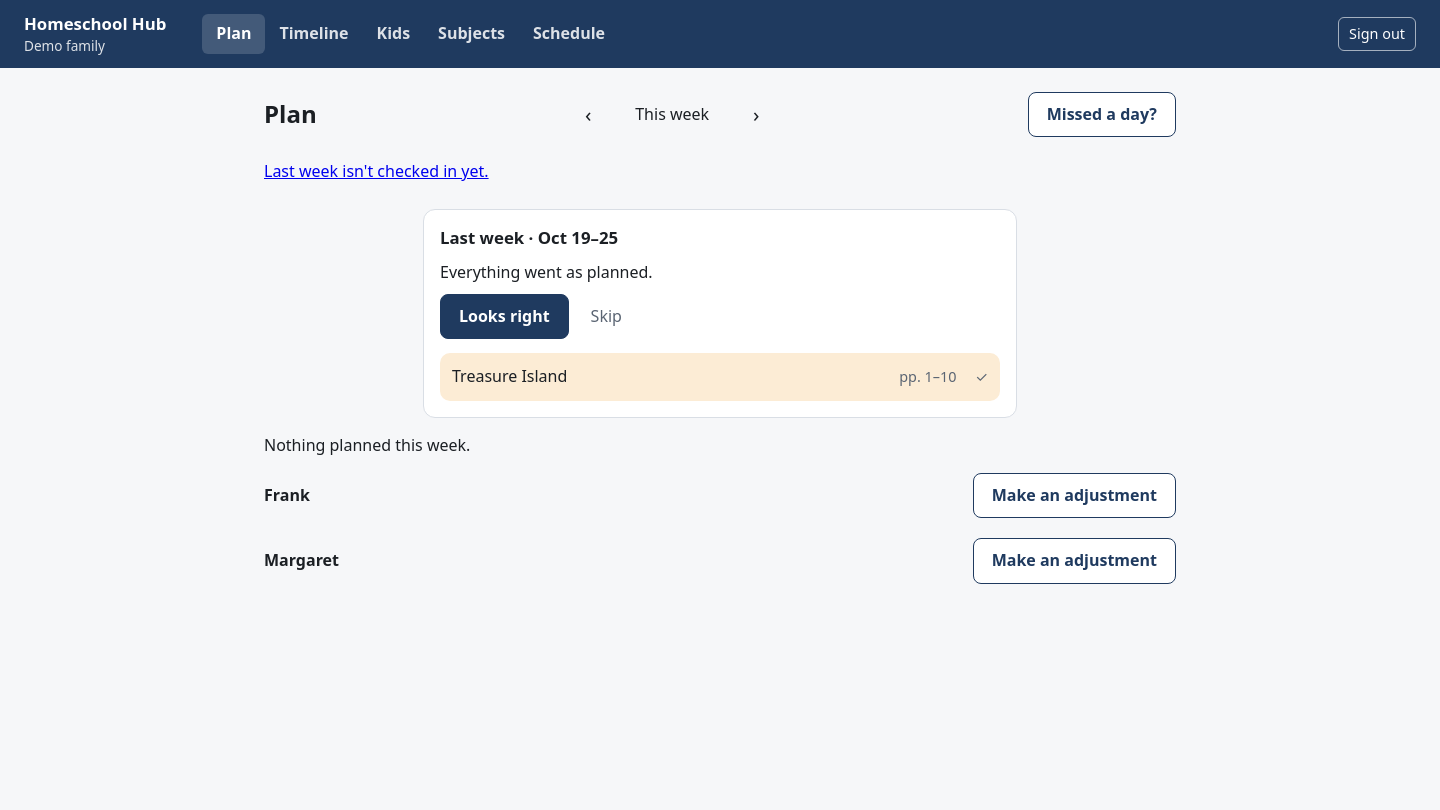
it: Weekly briefing on This Week (S4-09) › the nudge goes once last week is confirmed from the card
Expected: the link "Last week isn't checked in yet." is shown, [264,160,489,182]
Step 1. Click the button "Looks right" → (504,316), box [440,294,569,339]
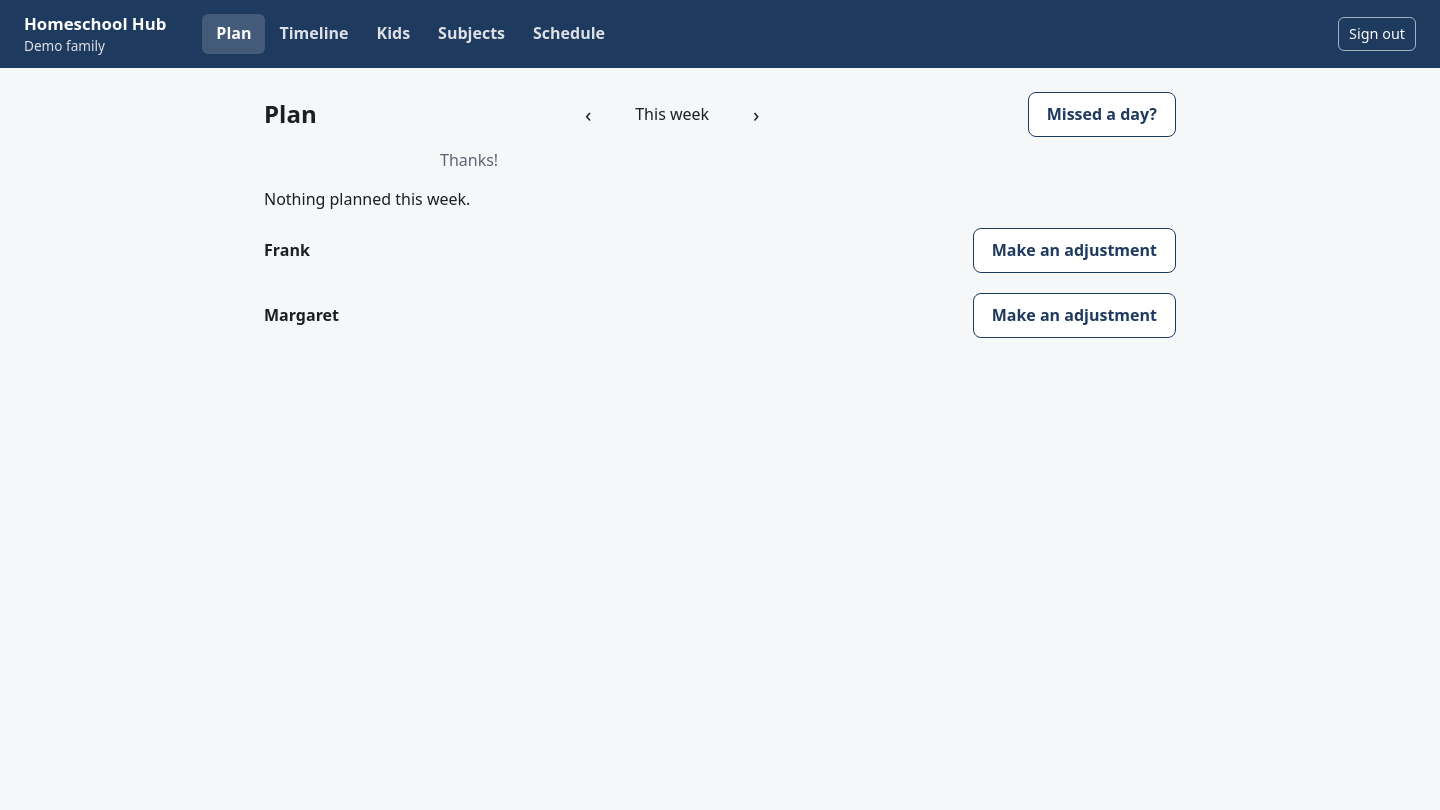
Now the link "Last week isn't checked in yet." is gone
